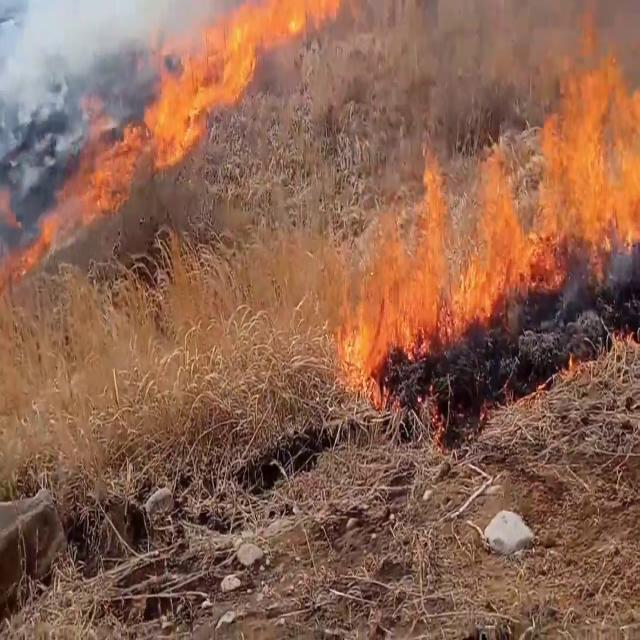Fire: (339, 7, 640, 379), (61, 1, 280, 239)
Smoke: (4, 0, 140, 154)
